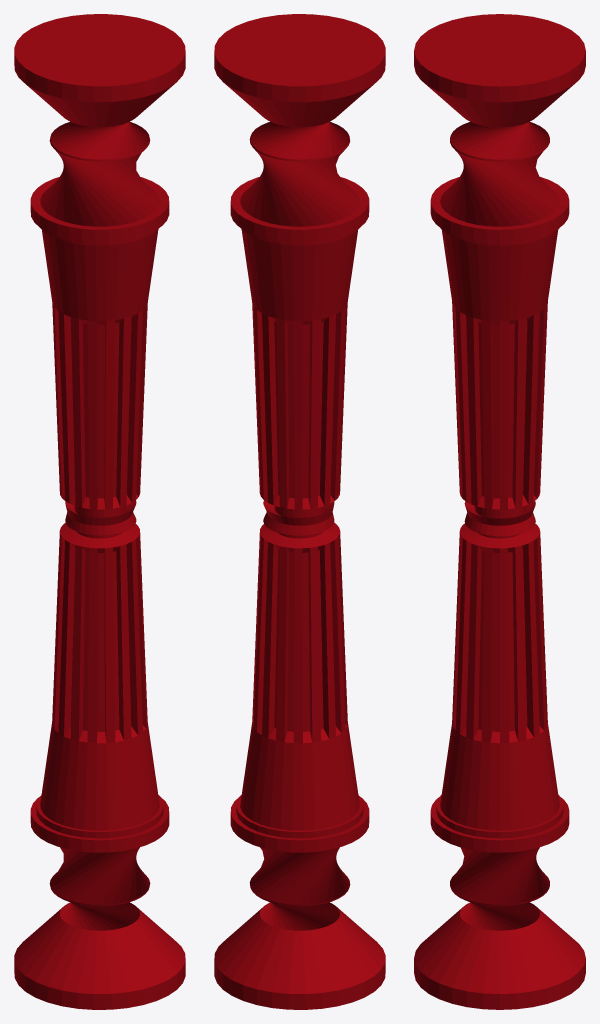
File: Pillar Model.fbx
The picture shows the model from 3 angles, left to right: view 1: azimuth 30°, elevation 25°; view 2: azimuth 150°, elevation 25°; view 3: azimuth 270°, elevation 25°; orthographic projection.
Parts seen in each view (by area): view 1: APPLIED no color; view 2: APPLIED no color; view 3: APPLIED no color.
Boxes of the visible parts, x1,y1,x2,y2 form: APPLIED no color: (14,14,185,1009); APPLIED no color: (214,14,385,1009); APPLIED no color: (414,14,585,1009).
Size of the model in its own units: 1027 by 6095 by 1027.
